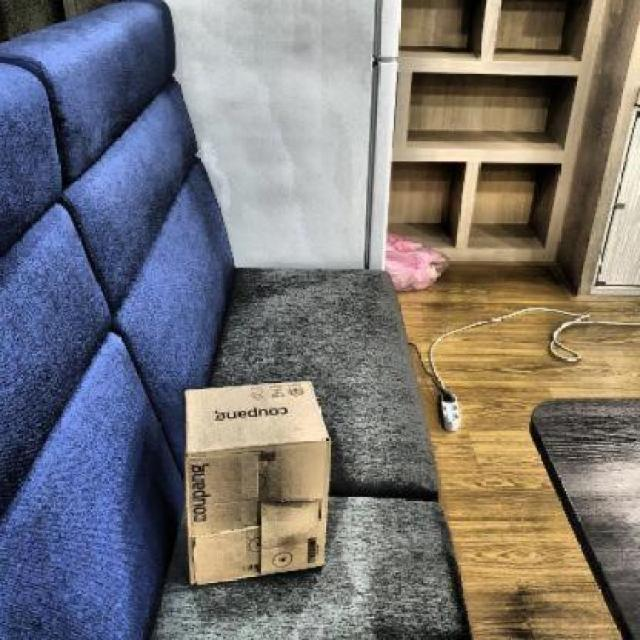box: (170, 367, 364, 611)
